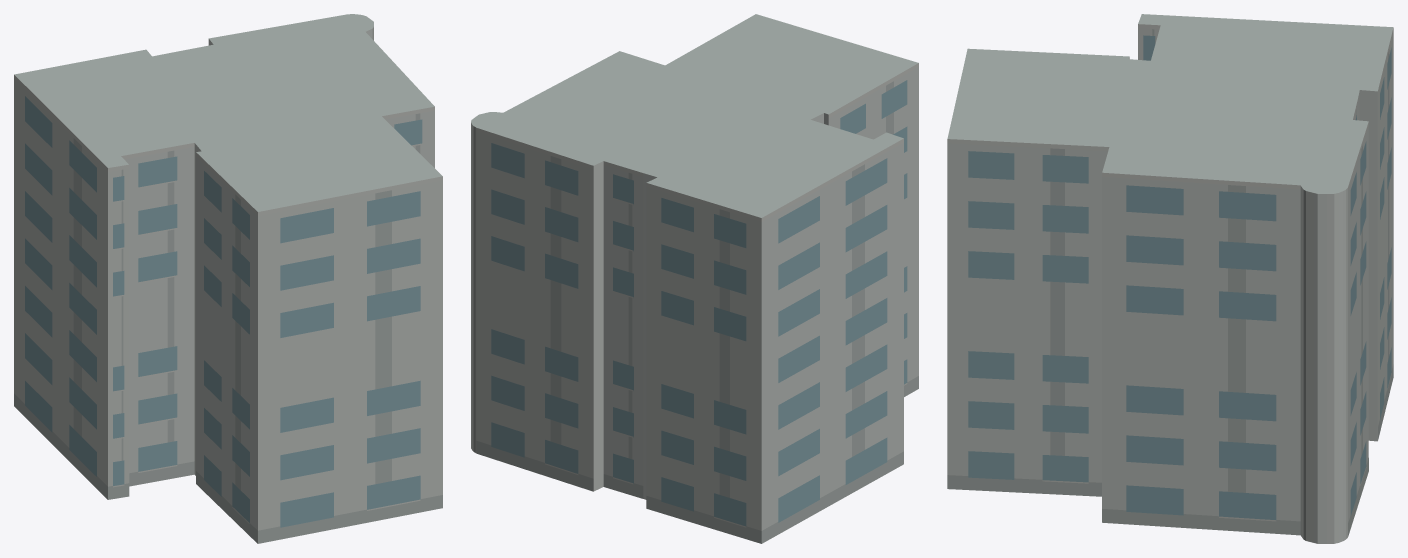
Rendered from survey-upis-33015876.glb.
3 renders of one model, left to right at view 1: azimuth 30°, elevation 25°; view 2: azimuth 150°, elevation 25°; view 3: azimuth 270°, elevation 25°, orthographic. The views are drawn at different scales.
Parts seen in each view (by area): view 1: survey-upis-33015876.tmp; view 2: survey-upis-33015876.tmp; view 3: survey-upis-33015876.tmp.
Boxes of the visible parts, box(x1,y1,x2,y2) form: survey-upis-33015876.tmp: box(14, 14, 442, 543); survey-upis-33015876.tmp: box(471, 14, 918, 543); survey-upis-33015876.tmp: box(947, 14, 1393, 543).
Size of the model in its own units: 22.11 by 20.05 by 23.17.
